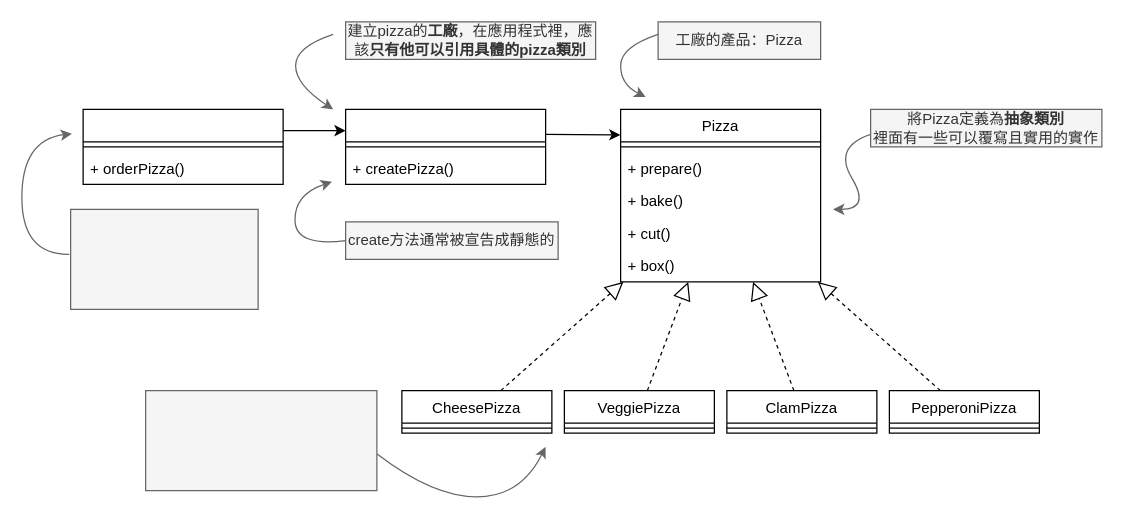
The diagram is 1124 pixels wide and 519 high, and some of its shapes have lost their labels. The shapes that lost their labels are listed below. From the top down, each one's box as (x1, y1, x2, y2) in pixels, then its label:
(82, 108, 283, 184): PizzaStore
(344, 108, 546, 184): SimplePizzaFactory
(69, 208, 258, 309): 這是工廠的 用戶端 現在PizzaStore透過 SimplePizzaFactory取得 pizza的實例
(144, 389, 377, 491): 這些是 具體產品 每一個產品都需要實作Pizza介面 而且都要是具體的 只要符合這些情況 就可以被工廠做出來送回客戶端
